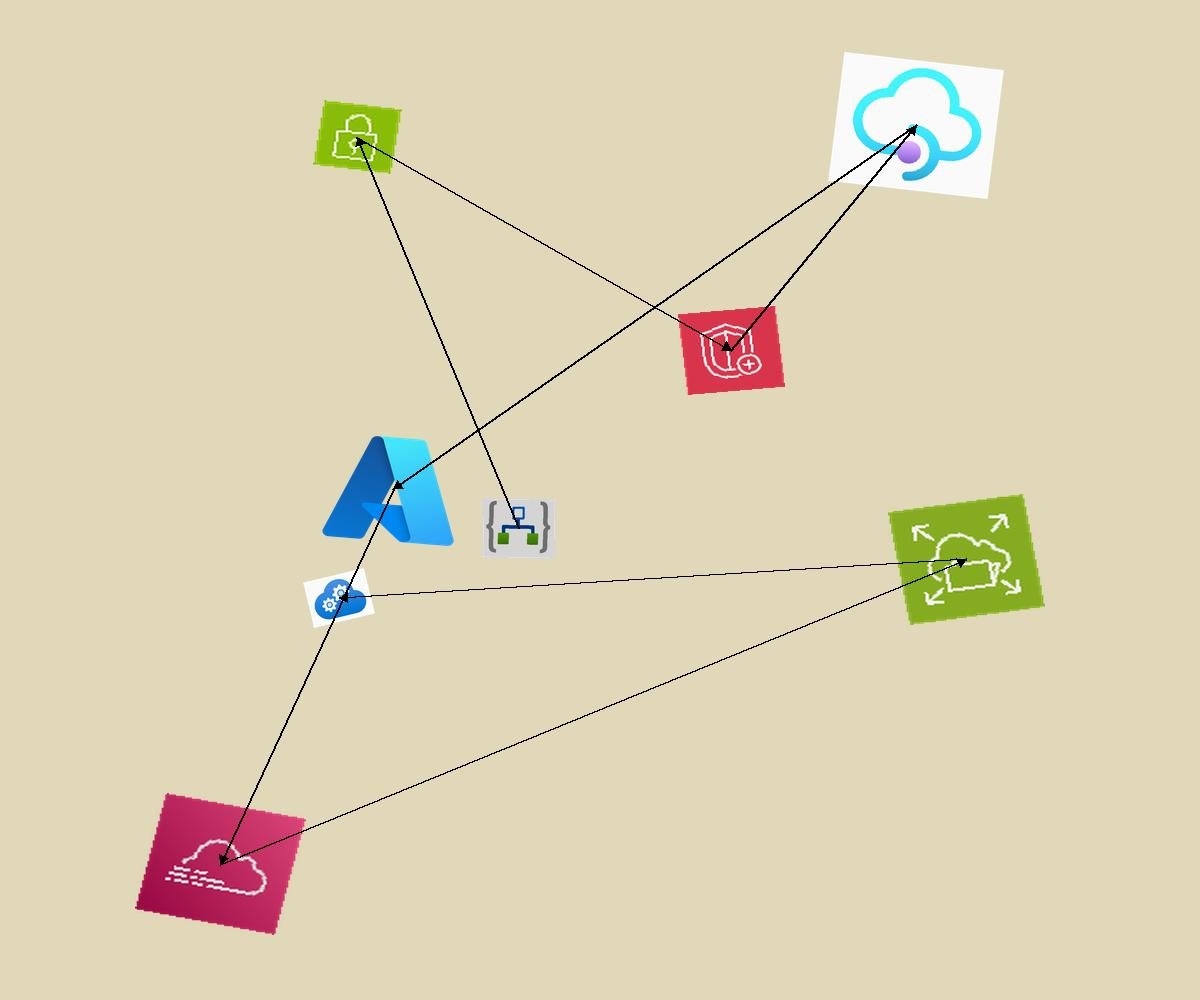AWS-CloudTrail: (135, 793, 306, 935)
AWS-EFS: (888, 494, 1045, 625)
AWS-Public-subnet: (313, 100, 402, 174)
AWS-Shield: (678, 306, 785, 395)
Azure_api_gateway: (828, 52, 1004, 199)
Azure_cloud_services: (303, 568, 375, 628)
Azure_integration-204-Logic-Apps: (482, 498, 556, 559)
Azure_services: (315, 424, 472, 555)
